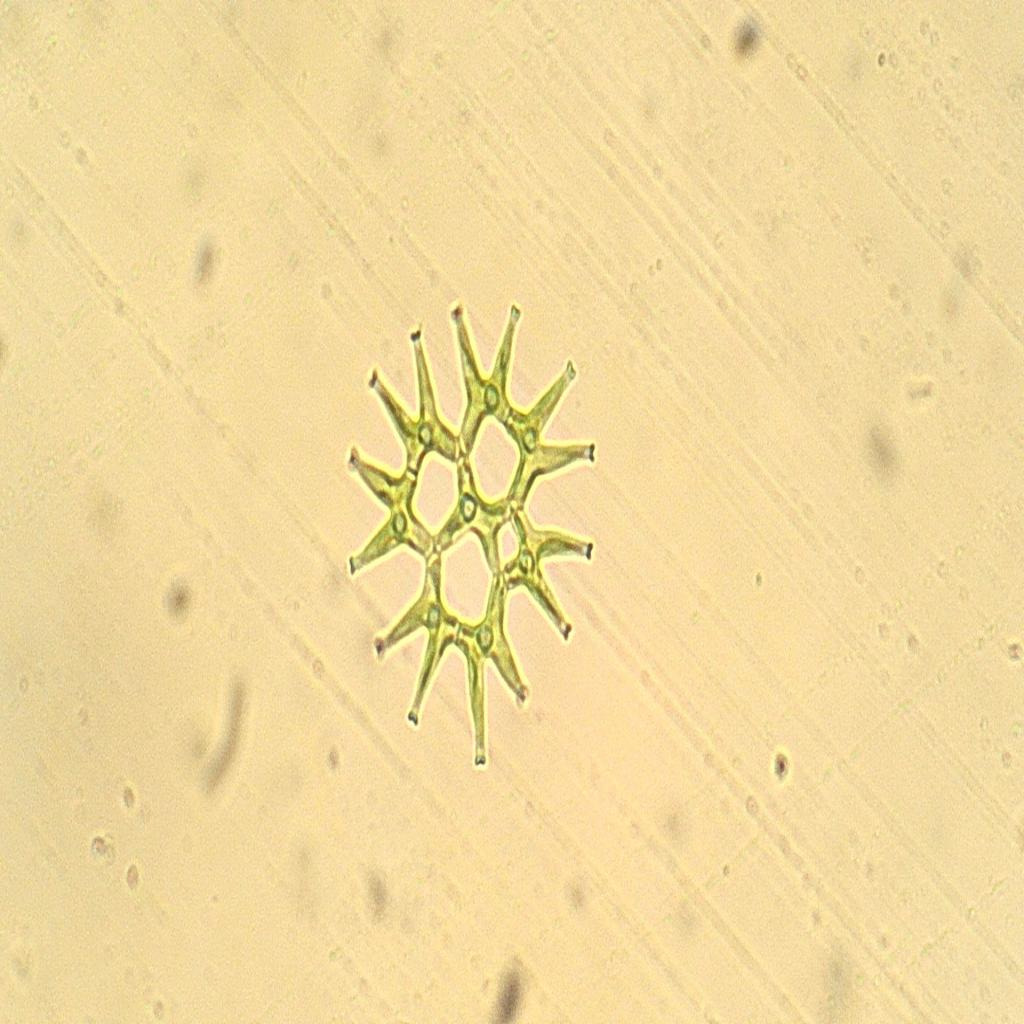Pediastrum_CTH: (333, 279, 614, 786)
